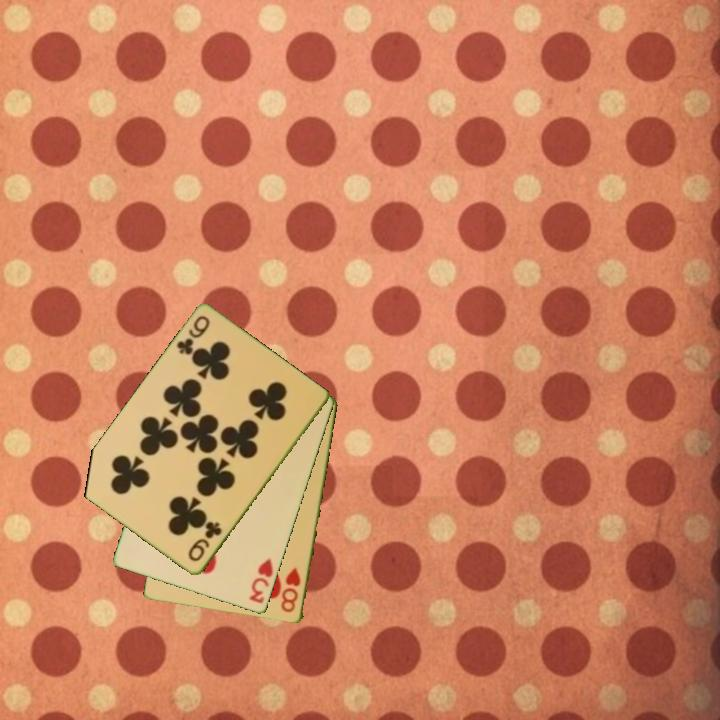3h: (246, 554, 276, 607)
8h: (278, 565, 304, 616)
9c: (184, 518, 225, 565), (173, 312, 213, 359)
